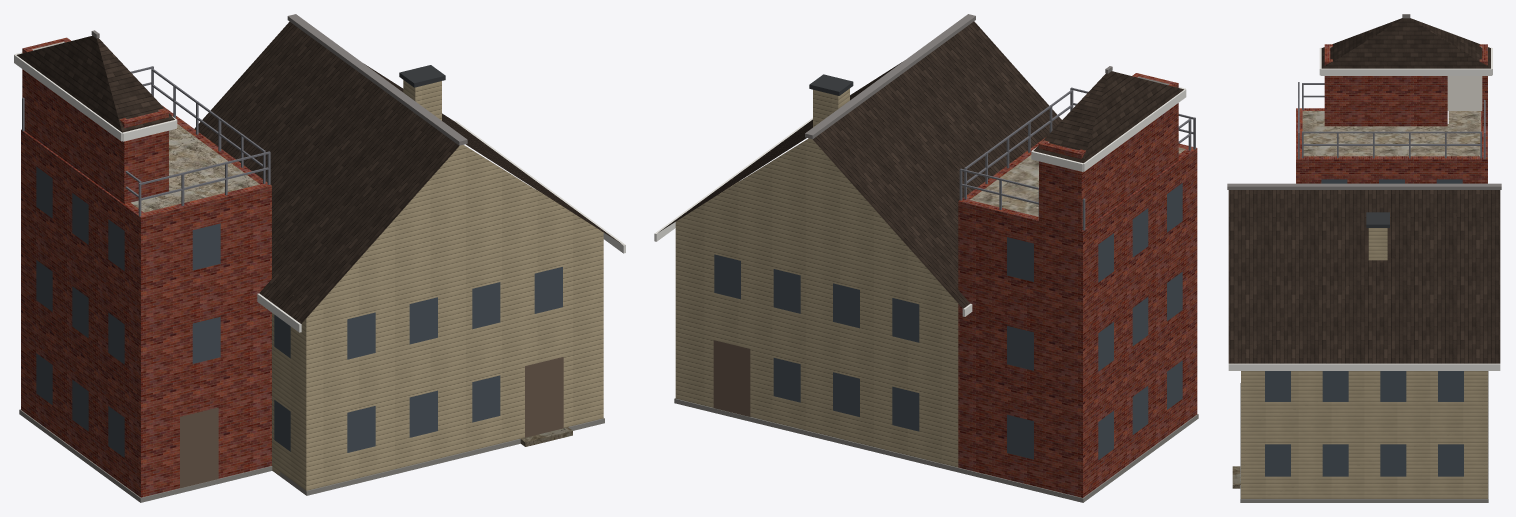
The model's file is ns-cottage-tower.towns-v1.lod1.glb.
3 renders of one model, left to right at view 1: azimuth 30°, elevation 25°; view 2: azimuth 150°, elevation 25°; view 3: azimuth 270°, elevation 25°, orthographic. The views are drawn at different scales.
Parts seen in each view (by area): view 1: ns-cottage-tower; view 2: ns-cottage-tower; view 3: ns-cottage-tower.
Boxes of the visible parts, x1,y1,x2,y2 form: ns-cottage-tower: [14, 14, 625, 502]; ns-cottage-tower: [654, 14, 1198, 502]; ns-cottage-tower: [1227, 14, 1501, 502].
Bounding box in the file's own units: 15.03 × 13.29 × 10.
5 materials, 4 textured.
